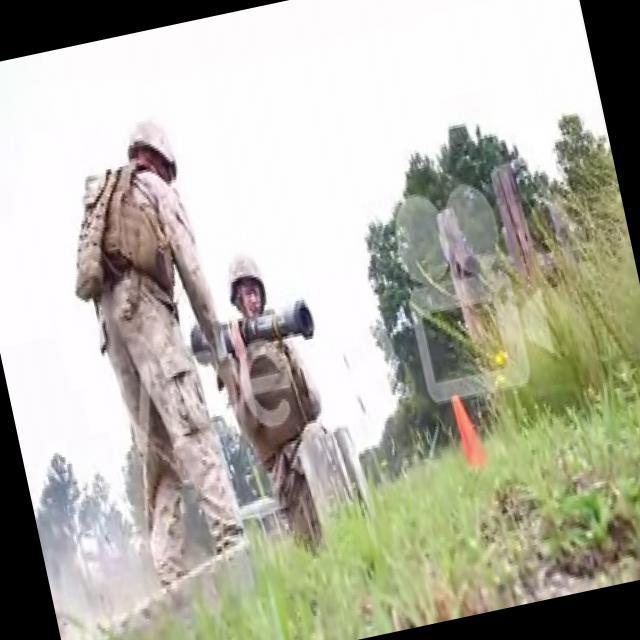rocket: (185, 296, 318, 362)
